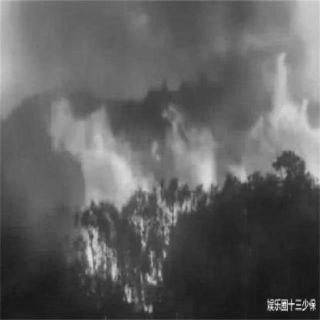Fire: (48, 78, 214, 314)
